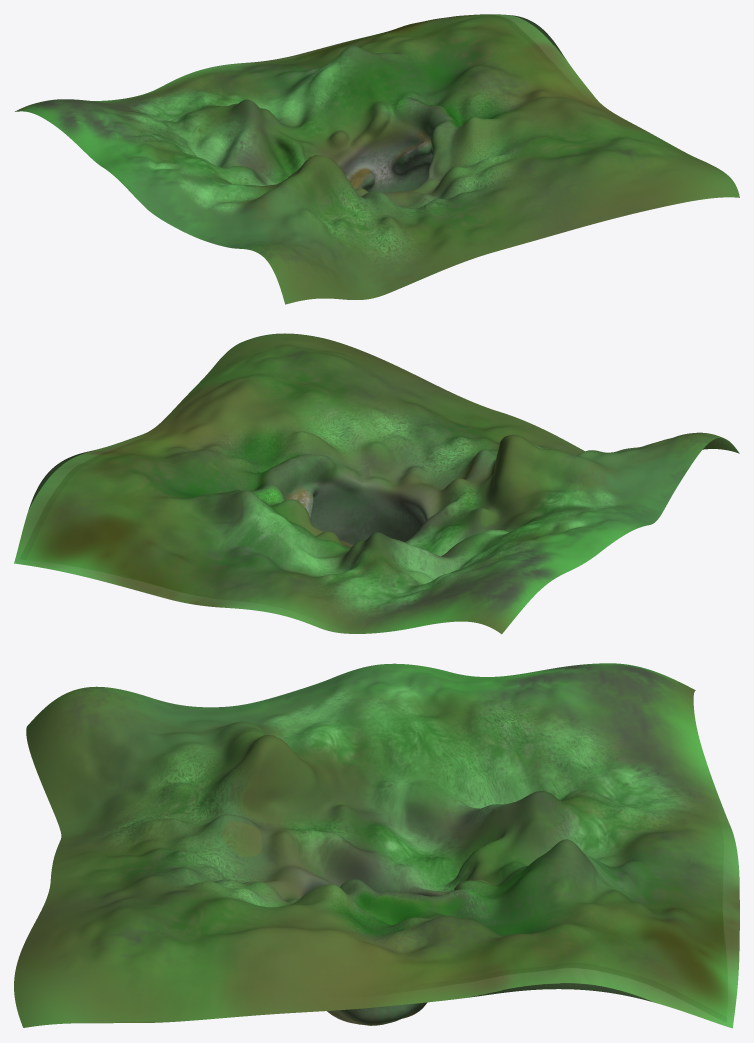
File: rocky mountain.glb
3 renders of one model, top to bottom at view 1: azimuth 30°, elevation 25°; view 2: azimuth 150°, elevation 25°; view 3: azimuth 270°, elevation 25°, orthographic. The views are drawn at different scales.
Visible parts, largest first — view 1: Landscape; view 2: Landscape; view 3: Landscape.
Boxes of the visible parts, <box> form: Landscape: <box>15,14,739,304</box>; Landscape: <box>14,333,739,634</box>; Landscape: <box>14,663,739,1028</box>.
Size of the model in its own units: 11.73 by 3.56 by 11.16.
1 material, 1 textured.
